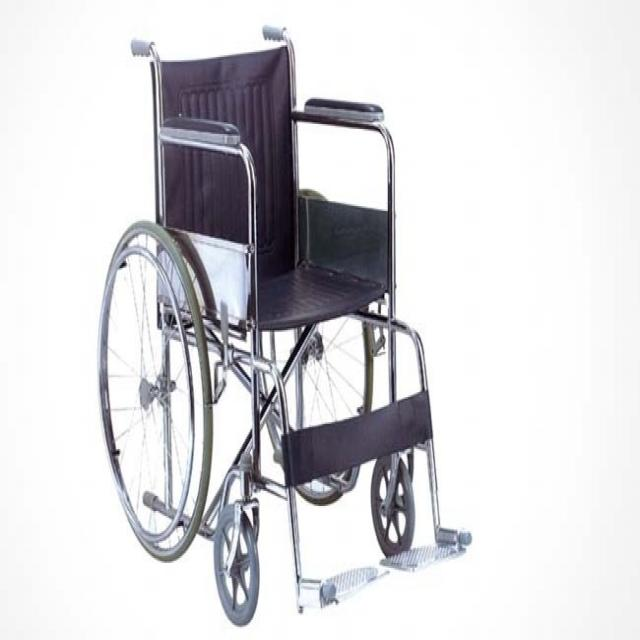wheelchair: (90, 19, 483, 629)
